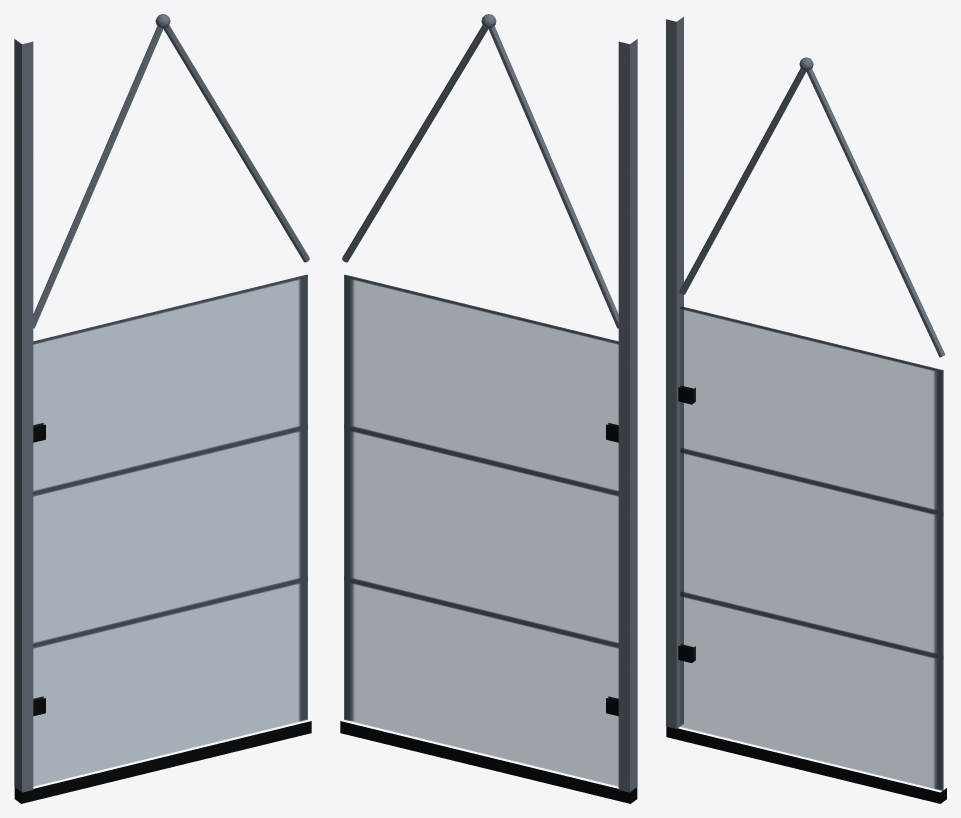
3 views of the same model, side by side, from view 1: azimuth 30°, elevation 25°; view 2: azimuth 150°, elevation 25°; view 3: azimuth 330°, elevation 25° (orthographic). The views are drawn at different scales.
Parts seen in each view (by area): view 1: Glass_Court_Pane, Post_Steel, Head_Brace, Floor_Channel; view 2: Glass_Court_Pane, Post_Steel, Head_Brace, Floor_Channel; view 3: Glass_Court_Pane, Post_Steel, Head_Brace, Floor_Channel, Pane_Clamps.
Part boxes in pixels (x1,y1,x2,y2): Glass_Court_Pane: (33,274,307,786); Post_Steel: (14,39,33,792); Head_Brace: (33,14,309,328); Floor_Channel: (14,721,311,803); Glass_Court_Pane: (344,274,618,786); Post_Steel: (618,39,637,792); Head_Brace: (342,14,618,328); Floor_Channel: (340,721,637,803); Glass_Court_Pane: (680,306,943,790); Post_Steel: (666,17,683,728); Head_Brace: (679,57,945,357); Floor_Channel: (666,726,946,803); Pane_Clamps: (678,385,695,662).
Size of the model in its own units: 2.01 by 5 by 0.09.
Materials: 3 (3 with a texture image).
